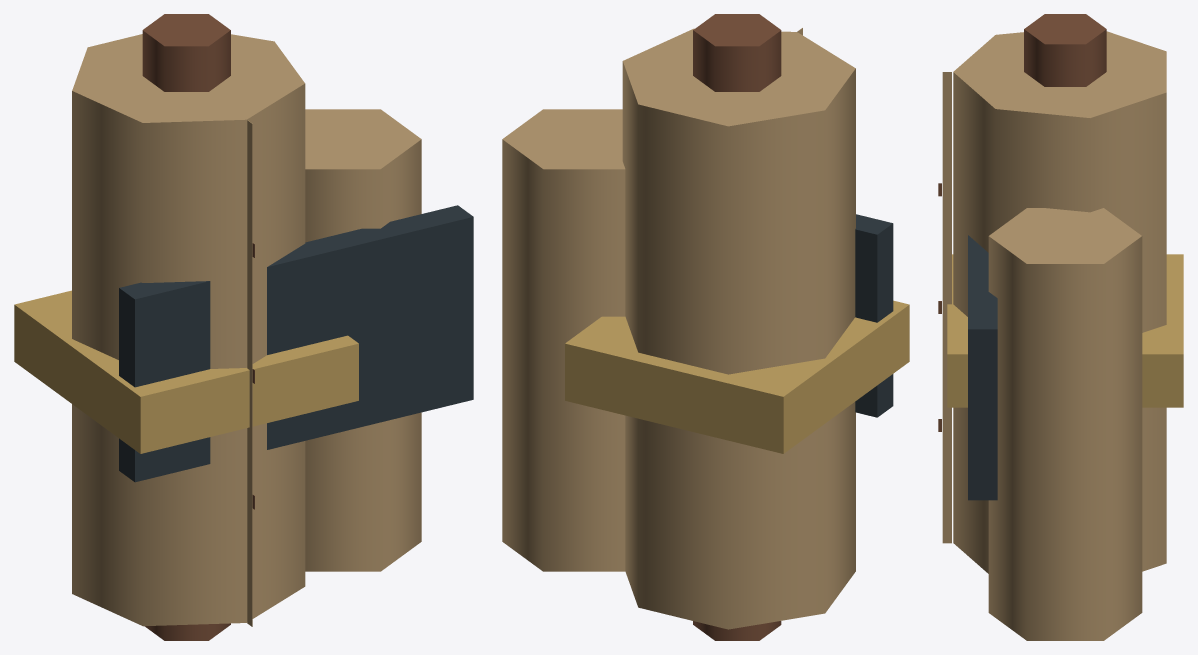
Rendered from scroll-5-lod1.glb.
3 renders of one model, left to right at view 1: azimuth 30°, elevation 25°; view 2: azimuth 150°, elevation 25°; view 3: azimuth 270°, elevation 25°, orthographic. The views are drawn at different scales.
Visible parts, largest first — view 1: piece_whole, ReadingSheet; view 2: piece_whole; view 3: piece_whole, ReadingSheet.
Part boxes in pixels (x1,y1,x2,y2): piece_whole: [14, 14, 473, 640]; ReadingSheet: [247, 120, 254, 626]; piece_whole: [502, 14, 909, 640]; piece_whole: [947, 14, 1183, 640]; ReadingSheet: [938, 72, 951, 543].
Size of the model in its own units: 0.315 by 0.52 by 0.2075.
